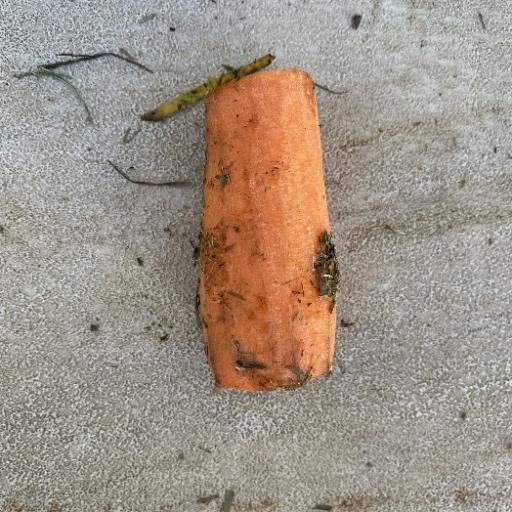Waste: (194, 66, 341, 393)
